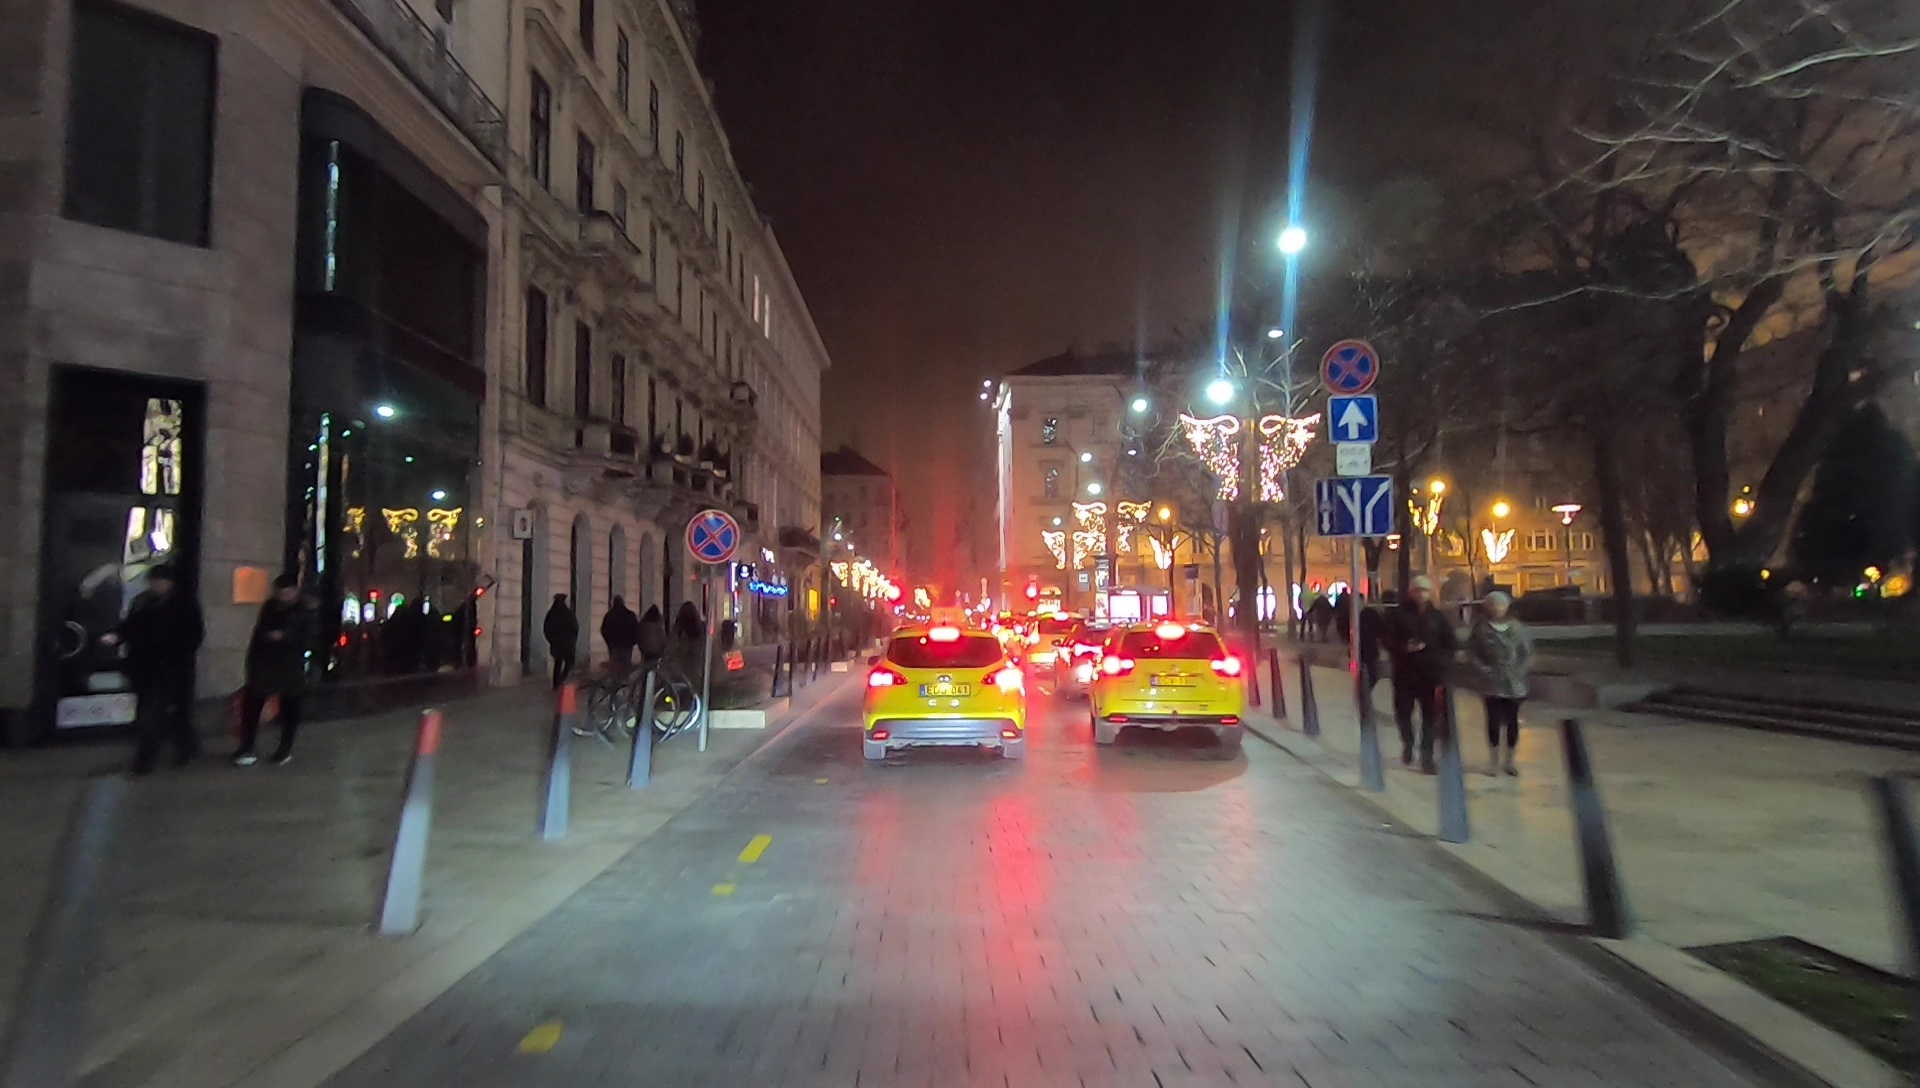person: (112, 569, 208, 769), (236, 573, 319, 763), (1465, 591, 1532, 774), (1384, 582, 1443, 769), (539, 589, 581, 688), (601, 595, 634, 682), (673, 602, 699, 697), (636, 602, 665, 678)
